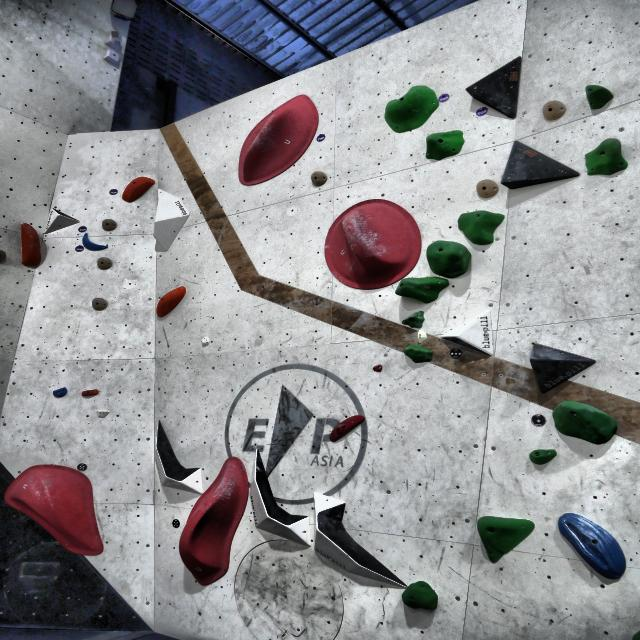Hold: (5, 456, 108, 564), (232, 92, 326, 196), (181, 452, 249, 590), (332, 192, 412, 289), (560, 508, 626, 588), (548, 398, 619, 447), (475, 511, 537, 567), (384, 85, 445, 132), (453, 206, 506, 247), (399, 573, 452, 613), (388, 277, 458, 306), (424, 236, 469, 280), (584, 134, 629, 178), (113, 172, 166, 209), (154, 284, 197, 324), (422, 132, 465, 164), (17, 221, 45, 270), (328, 410, 369, 442), (581, 85, 620, 114), (42, 209, 84, 234), (396, 345, 438, 369), (75, 231, 112, 257), (528, 447, 558, 467), (400, 305, 426, 326), (366, 363, 393, 377), (81, 386, 104, 400), (51, 387, 74, 397)
